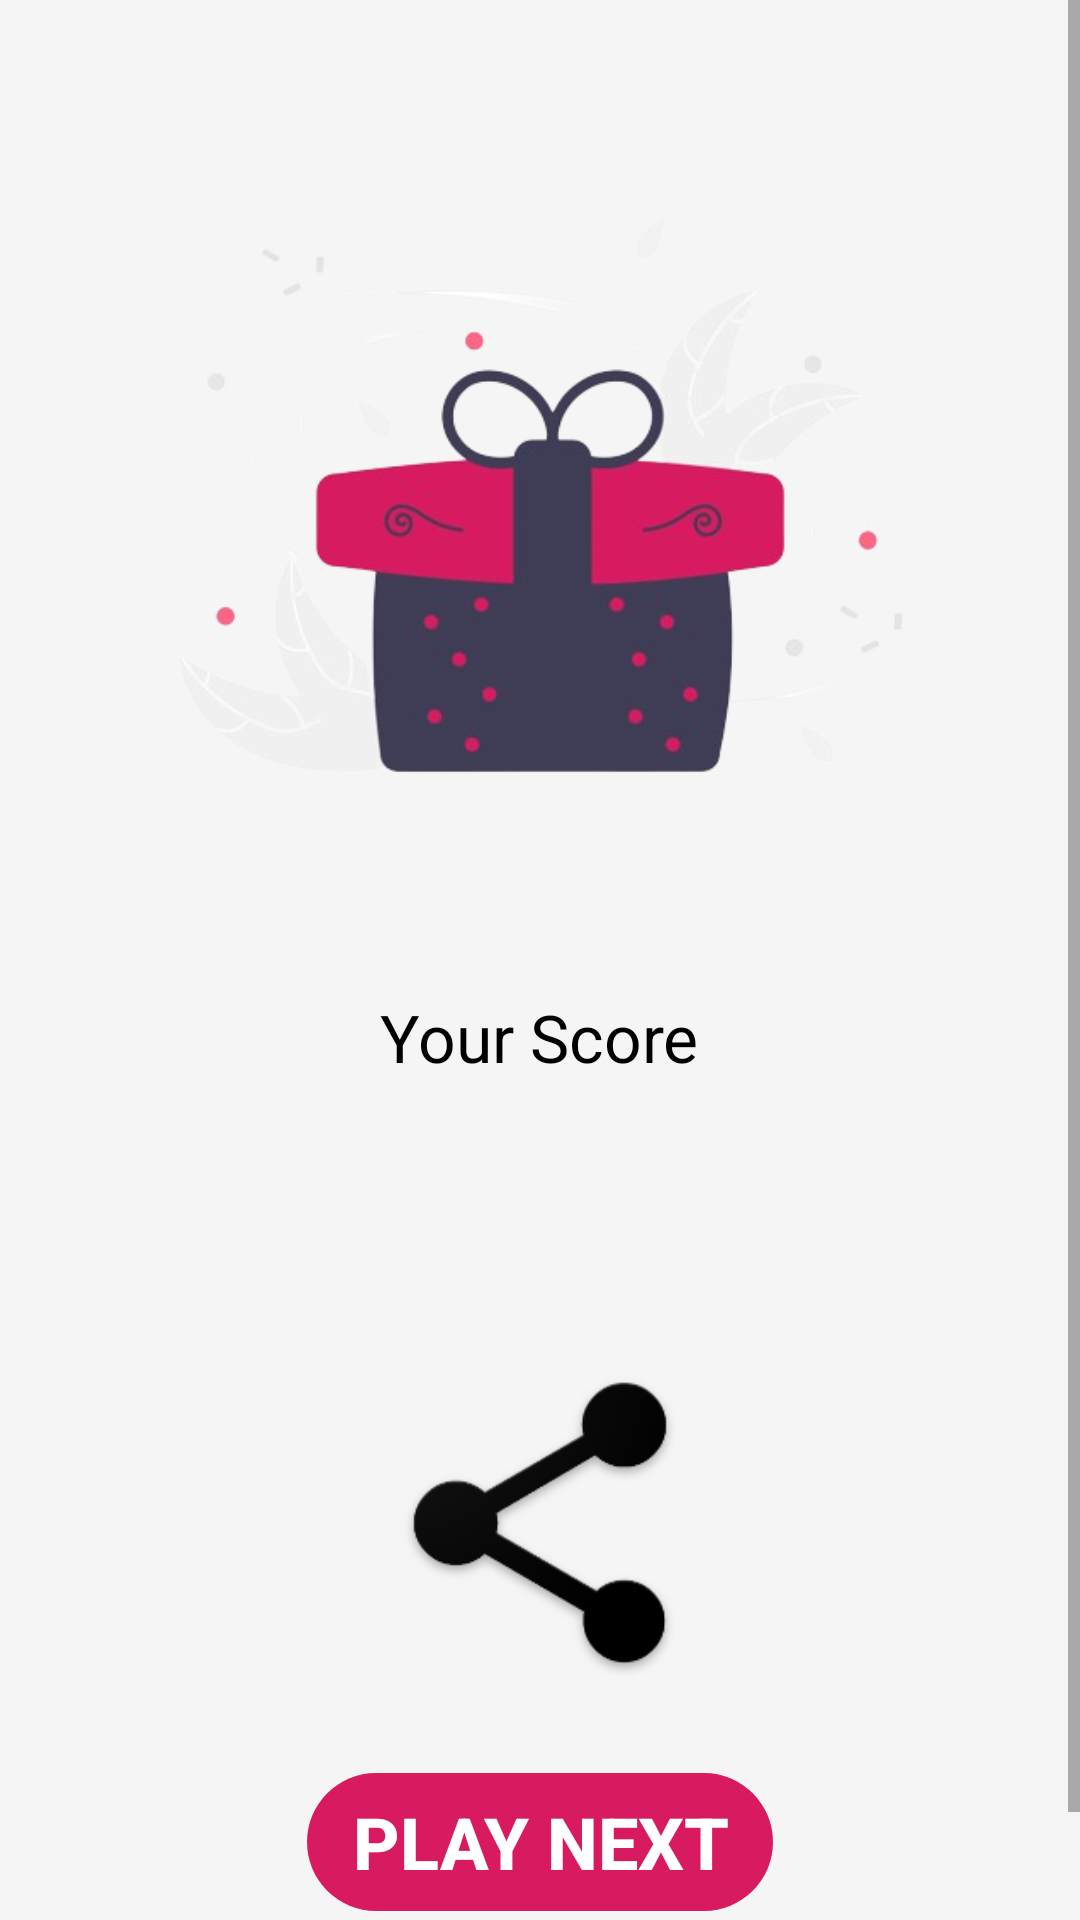

Named icons in this screenshot (1080×1920) and their bounding boxes, (x1, y1, x2, y2):
share: (412, 1382, 668, 1669)
